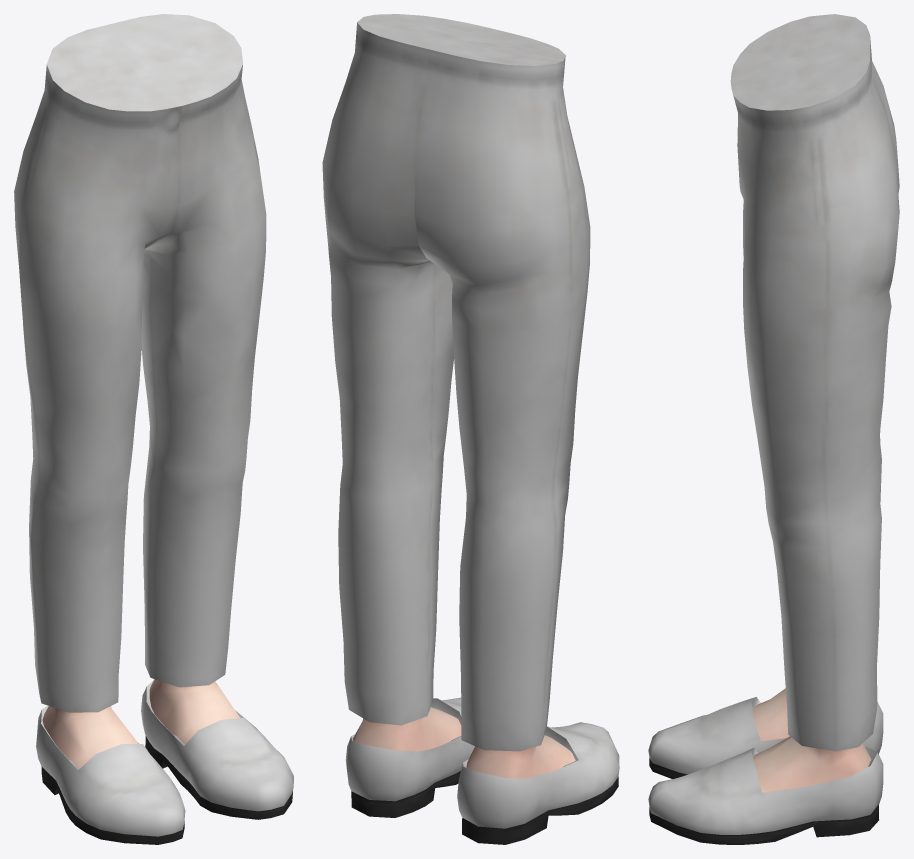
Rendered from tr0850_00_lwb03.gltf.
The picture shows the model from 3 angles, left to right: view 1: azimuth 30°, elevation 25°; view 2: azimuth 150°, elevation 25°; view 3: azimuth 270°, elevation 25°; orthographic projection. The views are drawn at different scales.
Visible parts, largest first — view 1: lwb03_lowerbody_mesh_shape:lowerbody03, lwb03_shoes_mesh_shape:lowerbody03, lwb03_lowerskin_mesh_shape:lowerbody03_skin; view 2: lwb03_lowerbody_mesh_shape:lowerbody03, lwb03_shoes_mesh_shape:lowerbody03, lwb03_lowerskin_mesh_shape:lowerbody03_skin; view 3: lwb03_lowerbody_mesh_shape:lowerbody03, lwb03_shoes_mesh_shape:lowerbody03, lwb03_lowerskin_mesh_shape:lowerbody03_skin.
Part boxes in pixels (box(x1,y1,x2,y2)): lwb03_lowerbody_mesh_shape:lowerbody03: box(14, 14, 266, 712); lwb03_shoes_mesh_shape:lowerbody03: box(36, 680, 293, 844); lwb03_lowerskin_mesh_shape:lowerbody03_skin: box(42, 679, 240, 768); lwb03_lowerbody_mesh_shape:lowerbody03: box(322, 14, 590, 751); lwb03_shoes_mesh_shape:lowerbody03: box(345, 697, 619, 844); lwb03_lowerskin_mesh_shape:lowerbody03_skin: box(353, 707, 575, 778); lwb03_lowerbody_mesh_shape:lowerbody03: box(730, 14, 899, 751); lwb03_shoes_mesh_shape:lowerbody03: box(648, 697, 883, 844); lwb03_lowerskin_mesh_shape:lowerbody03_skin: box(752, 688, 871, 792).
Size of what is drawn, in the model's own units: 0.3367 by 1.03 by 0.3136.
2 materials, 2 textured.
